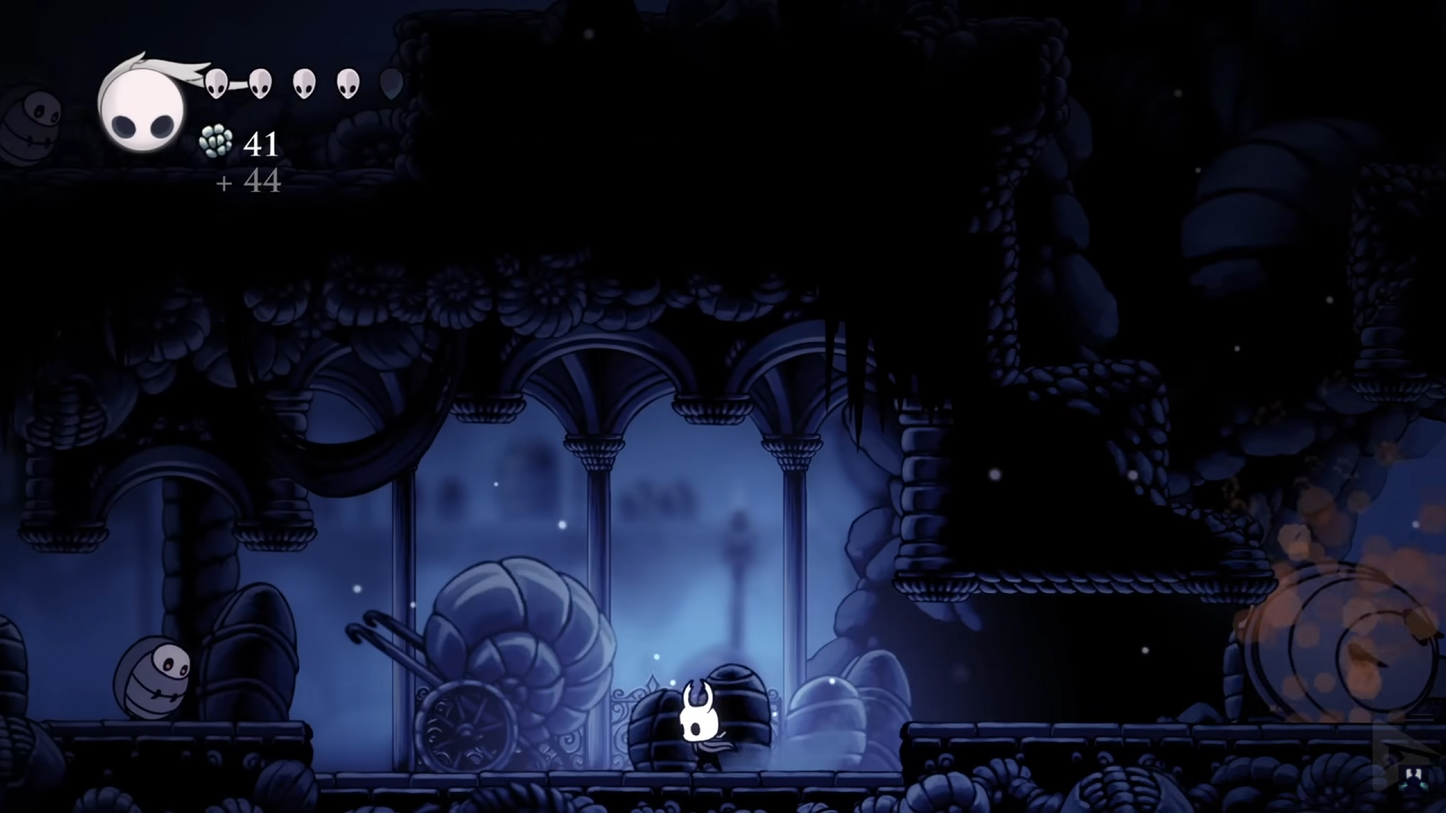HK: (673, 676, 731, 774)
